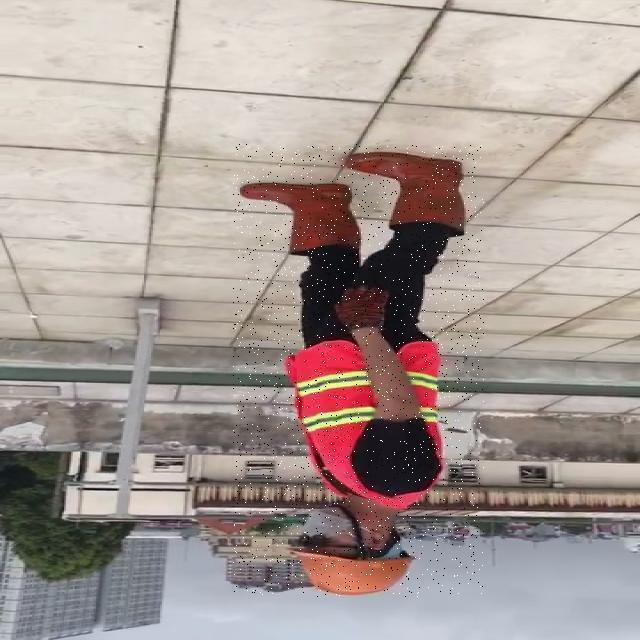Boots: (344, 153, 470, 229), (242, 184, 360, 255)
Gloves: (337, 286, 384, 325)
Helmet: (286, 548, 418, 597)
Vest: (291, 341, 441, 507)
